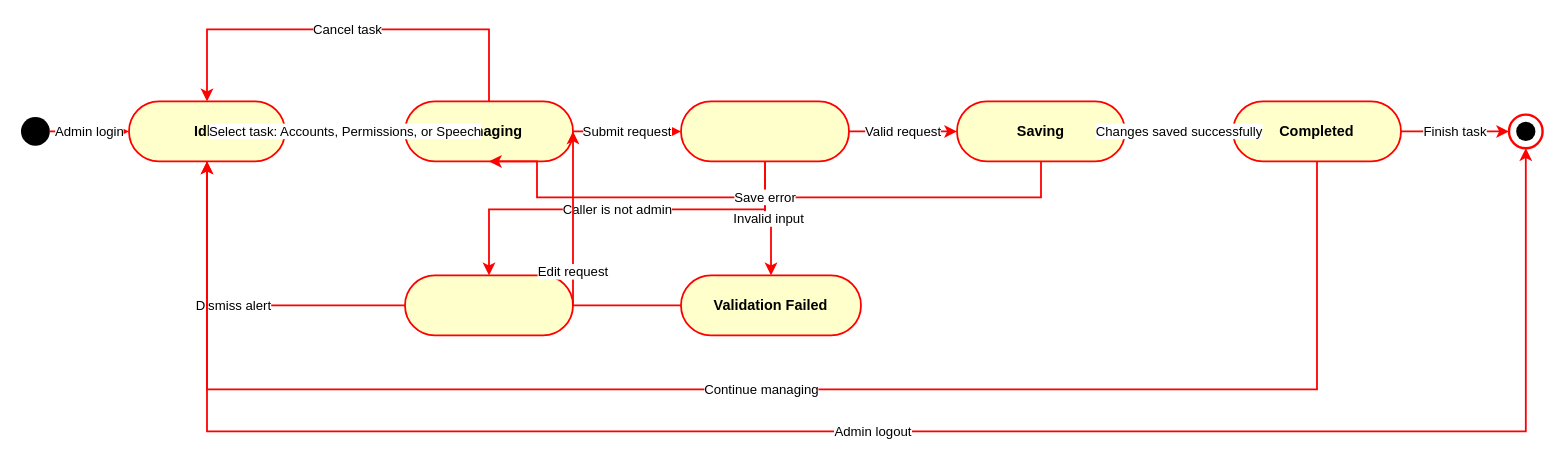
This 1564x463 diagram has some shape labels left out. The shapes that lost their labels are listed below. From the top down, each one's centre as x and y in pixels, then its label:
At (764,131): "Validating".
At (488,305): "Access Denied".
